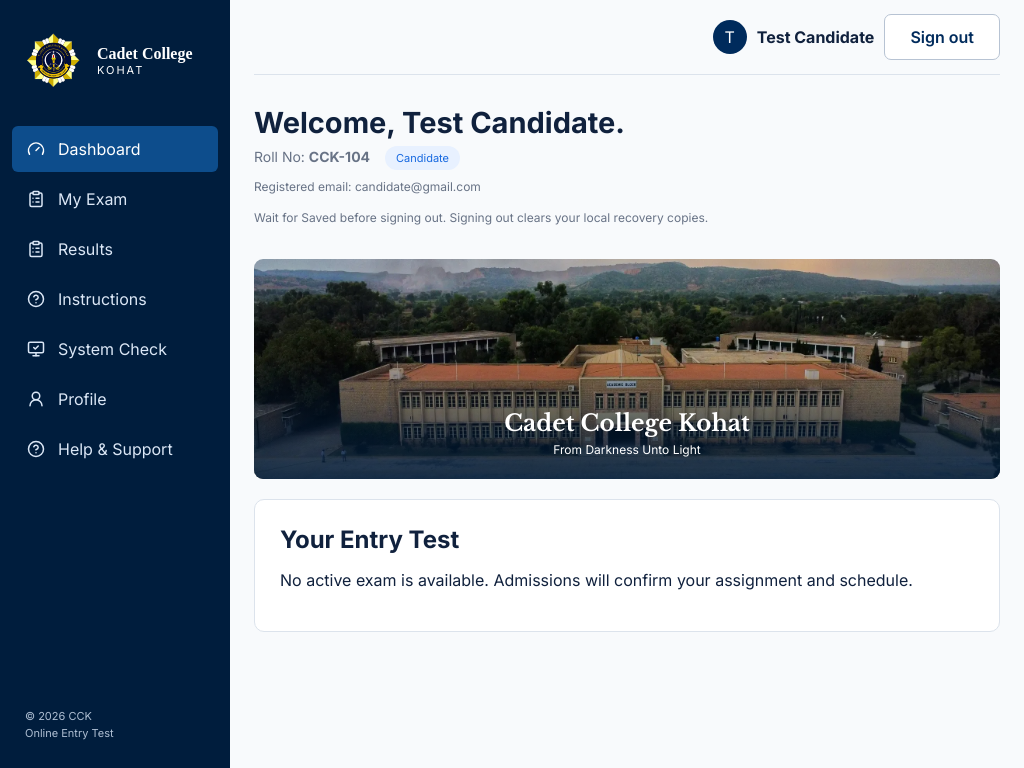
Test: protected dashboard › does not claim sign-out succeeded when CSRF validation fails
Click the button "Sign out". click: (942, 37)
box: left=884, top=14, right=1000, bottom=60
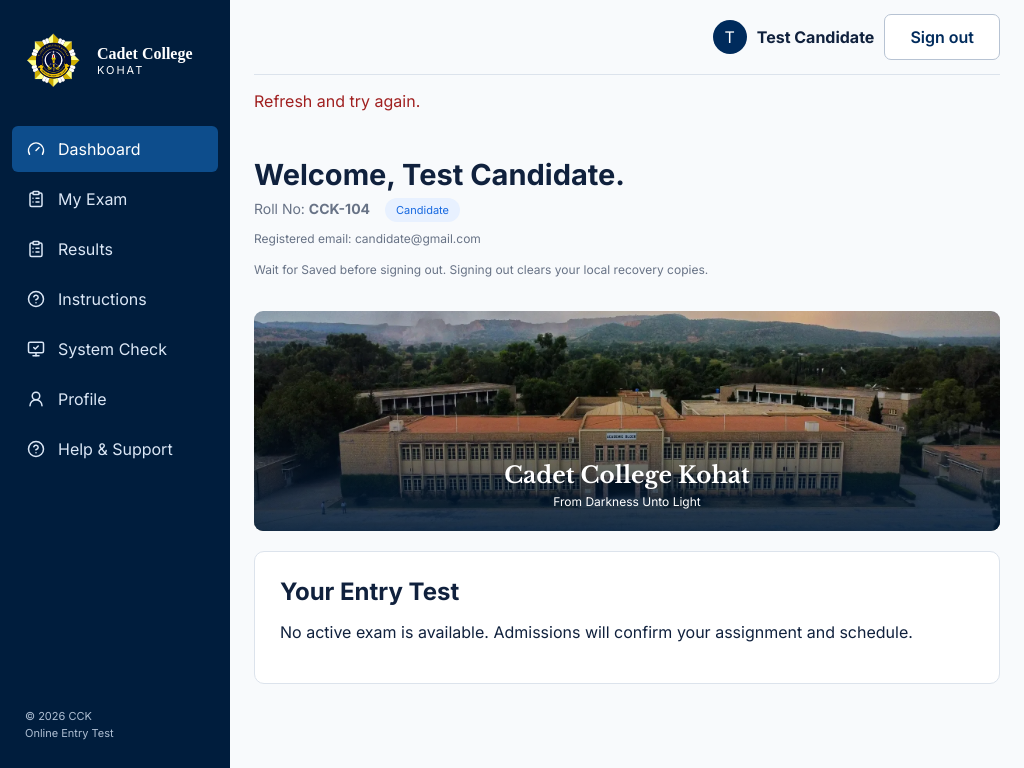
Expected: the text "CCK-104" is shown, left=309, top=200, right=370, bottom=217
Result: the message shows "Refresh and try again" at left=254, top=91, right=420, bottom=111
